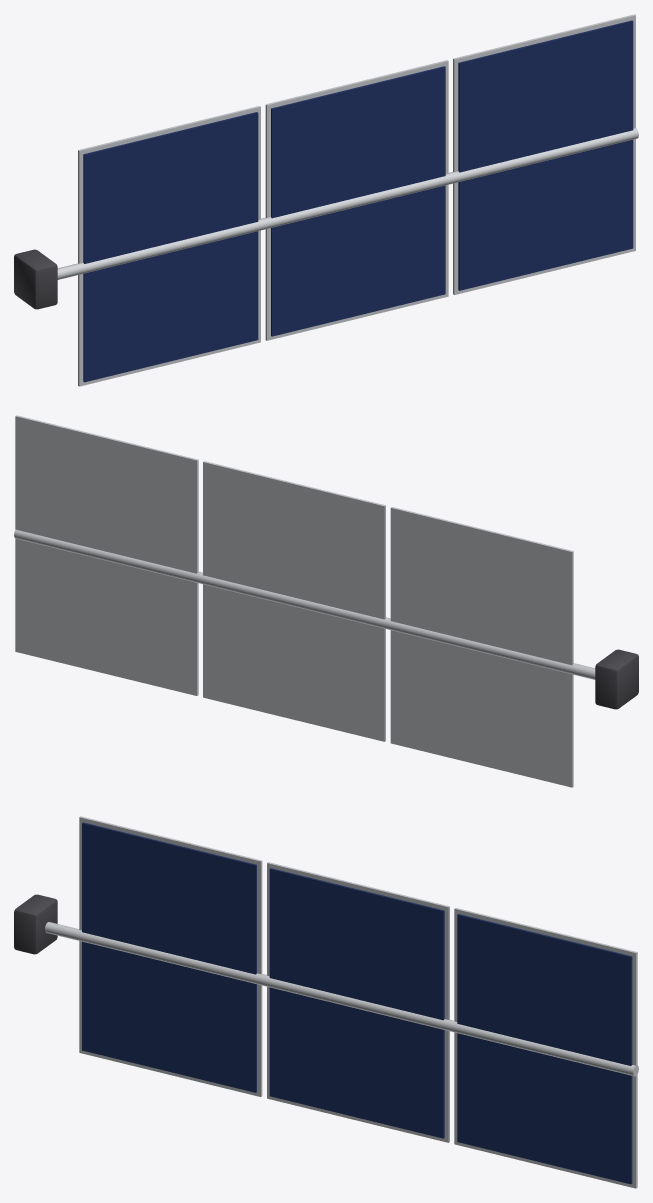
Rendered from solar.glb.
3 views of the same model, one above another, from view 1: azimuth 30°, elevation 25°; view 2: azimuth 150°, elevation 25°; view 3: azimuth 330°, elevation 25° (orthographic).
Visible parts, largest first — view 1: solar; view 2: solar; view 3: solar.
Part boxes in pixels (box(x1,y1,x2,y2)): solar: box(14, 14, 638, 386); solar: box(14, 415, 638, 787); solar: box(14, 816, 638, 1188).
Bounding box in the file's own units: 3.1 × 1.14 × 0.2.
